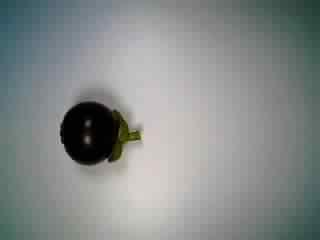mangosteen: (57, 99, 145, 168)
